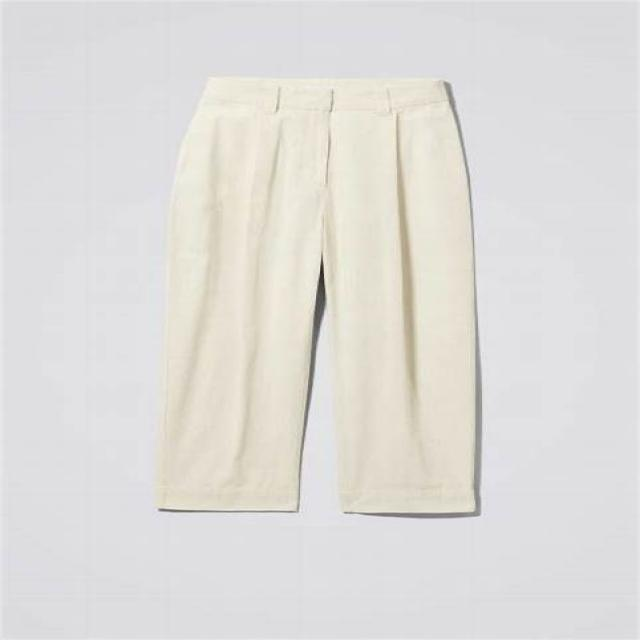long-pants: (156, 78, 480, 516)
